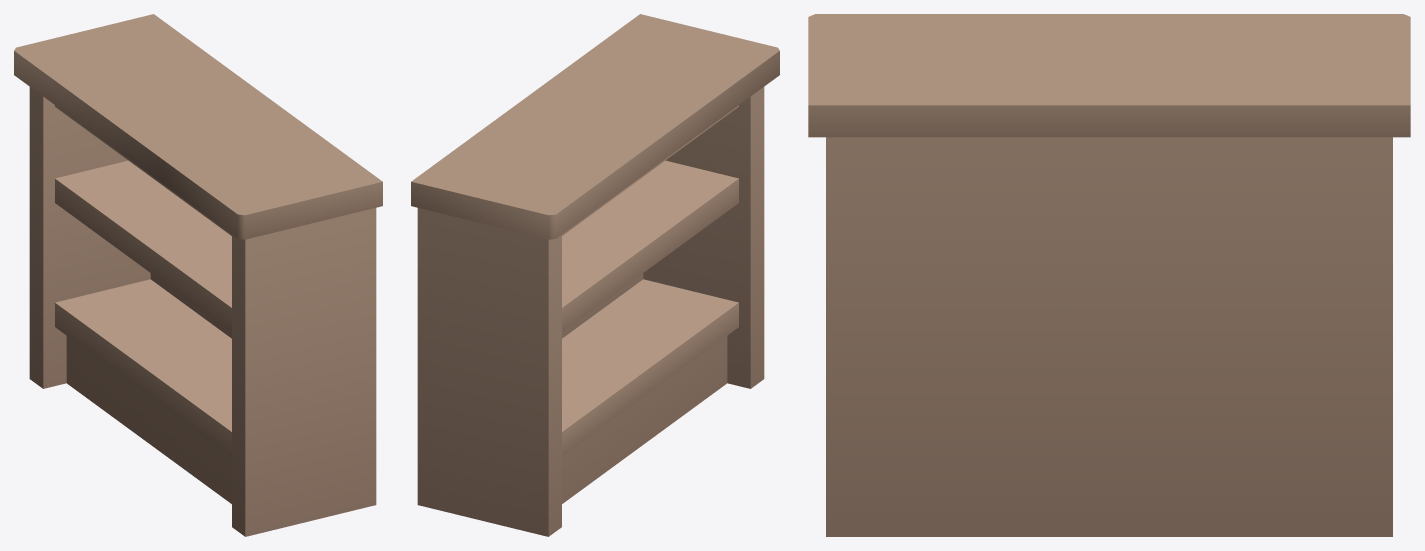
Rendered from cabinet-bookcase-classic-lowest.glb.
3 renders of one model, left to right at view 1: azimuth 30°, elevation 25°; view 2: azimuth 150°, elevation 25°; view 3: azimuth 270°, elevation 25°, orthographic. The views are drawn at different scales.
Parts seen in each view (by area): view 1: cabinet-bookcase-classic-lowest; view 2: cabinet-bookcase-classic-lowest; view 3: cabinet-bookcase-classic-lowest.
Part boxes in pixels (bbox=[...]): cabinet-bookcase-classic-lowest: bbox=[14, 14, 382, 536]; cabinet-bookcase-classic-lowest: bbox=[411, 14, 779, 536]; cabinet-bookcase-classic-lowest: bbox=[808, 14, 1410, 536].
Size of the model in its own units: 0.305 by 0.672 by 0.85.
